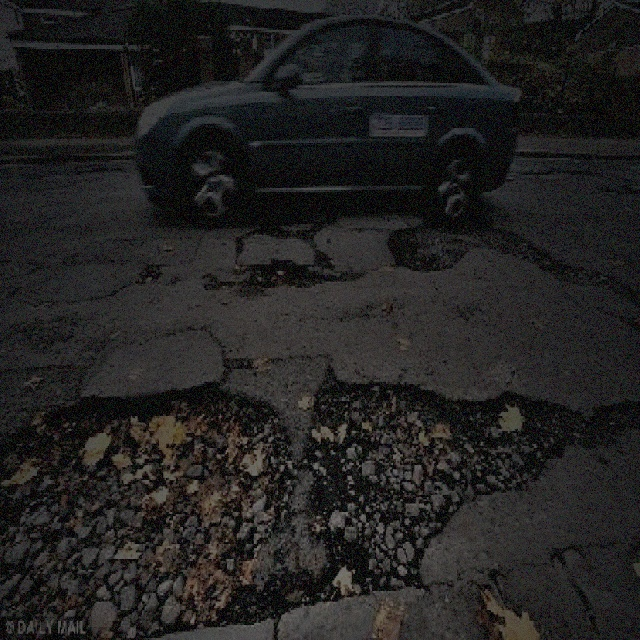pothole: (0, 363, 585, 638), (384, 220, 467, 273), (242, 256, 328, 290)
